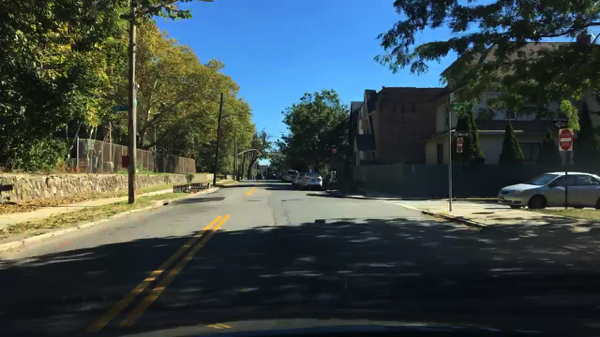car: (497, 171, 599, 210), (301, 173, 324, 190), (280, 169, 298, 183), (294, 172, 308, 186), (255, 173, 263, 181), (269, 174, 275, 179)
traffic light: (265, 152, 270, 159), (256, 150, 260, 157)
traffic sign: (557, 129, 572, 152), (110, 105, 130, 113), (553, 119, 568, 129), (456, 138, 463, 152), (451, 131, 468, 136)
